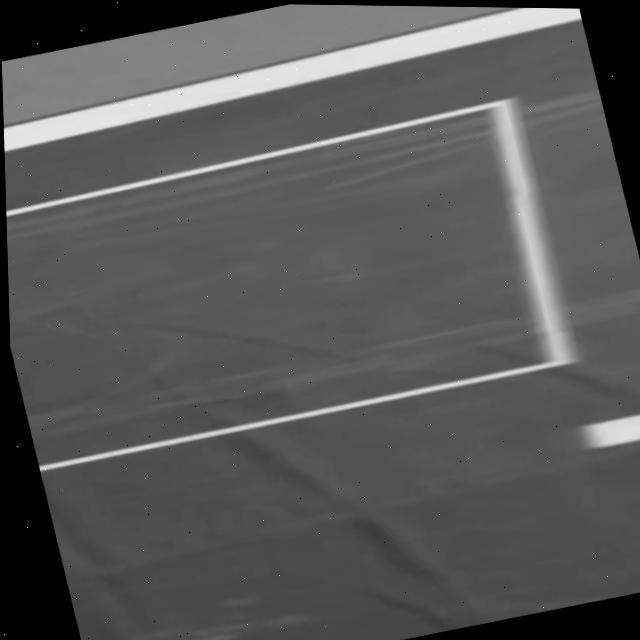center: (579, 414, 640, 448)
right: (4, 8, 582, 152)
